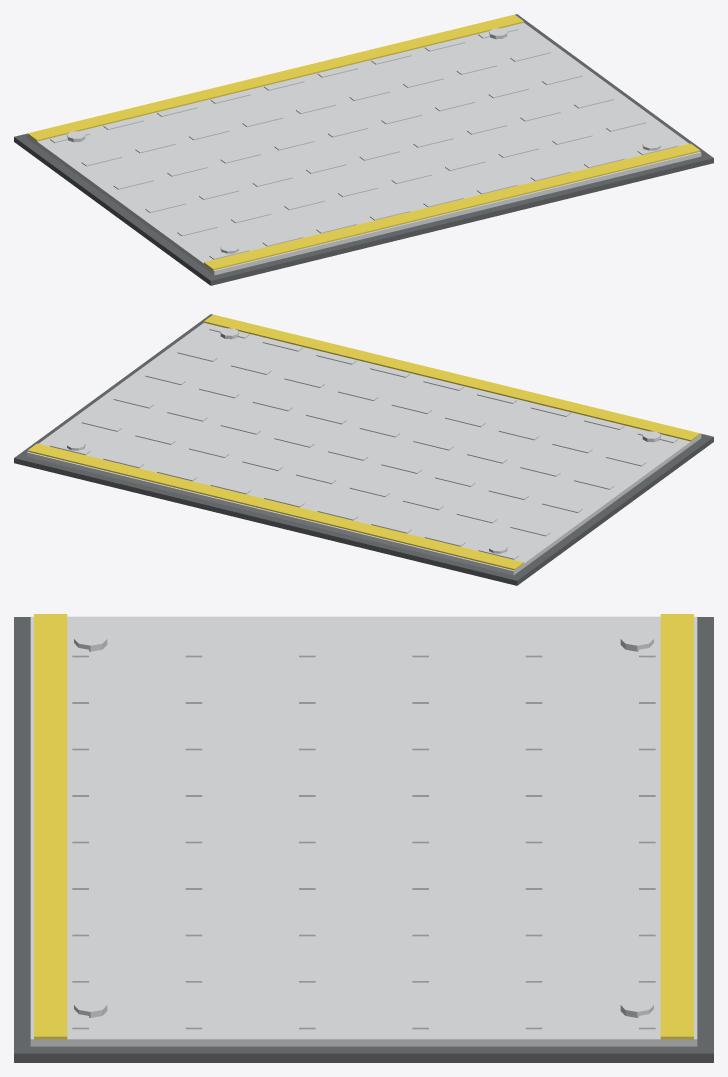
The model's file is demolition-and-site-clearance-demolition-and-site-clea-016dd84b.glb.
3 renders of one model, top to bottom at view 1: azimuth 30°, elevation 25°; view 2: azimuth 150°, elevation 25°; view 3: azimuth 270°, elevation 25°, orthographic. The views are drawn at different scales.
Visible parts, largest first — view 1: demolition-and-site-clearance-road-plate; view 2: demolition-and-site-clearance-road-plate; view 3: demolition-and-site-clearance-road-plate.
Boxes of the visible parts, left/top/right/bottom form: demolition-and-site-clearance-road-plate: left=14, top=14, right=713, bottom=285; demolition-and-site-clearance-road-plate: left=14, top=314, right=713, bottom=585; demolition-and-site-clearance-road-plate: left=14, top=614, right=713, bottom=1062.
Size of the model in its own units: 3.1 by 0.075 by 2.1.
